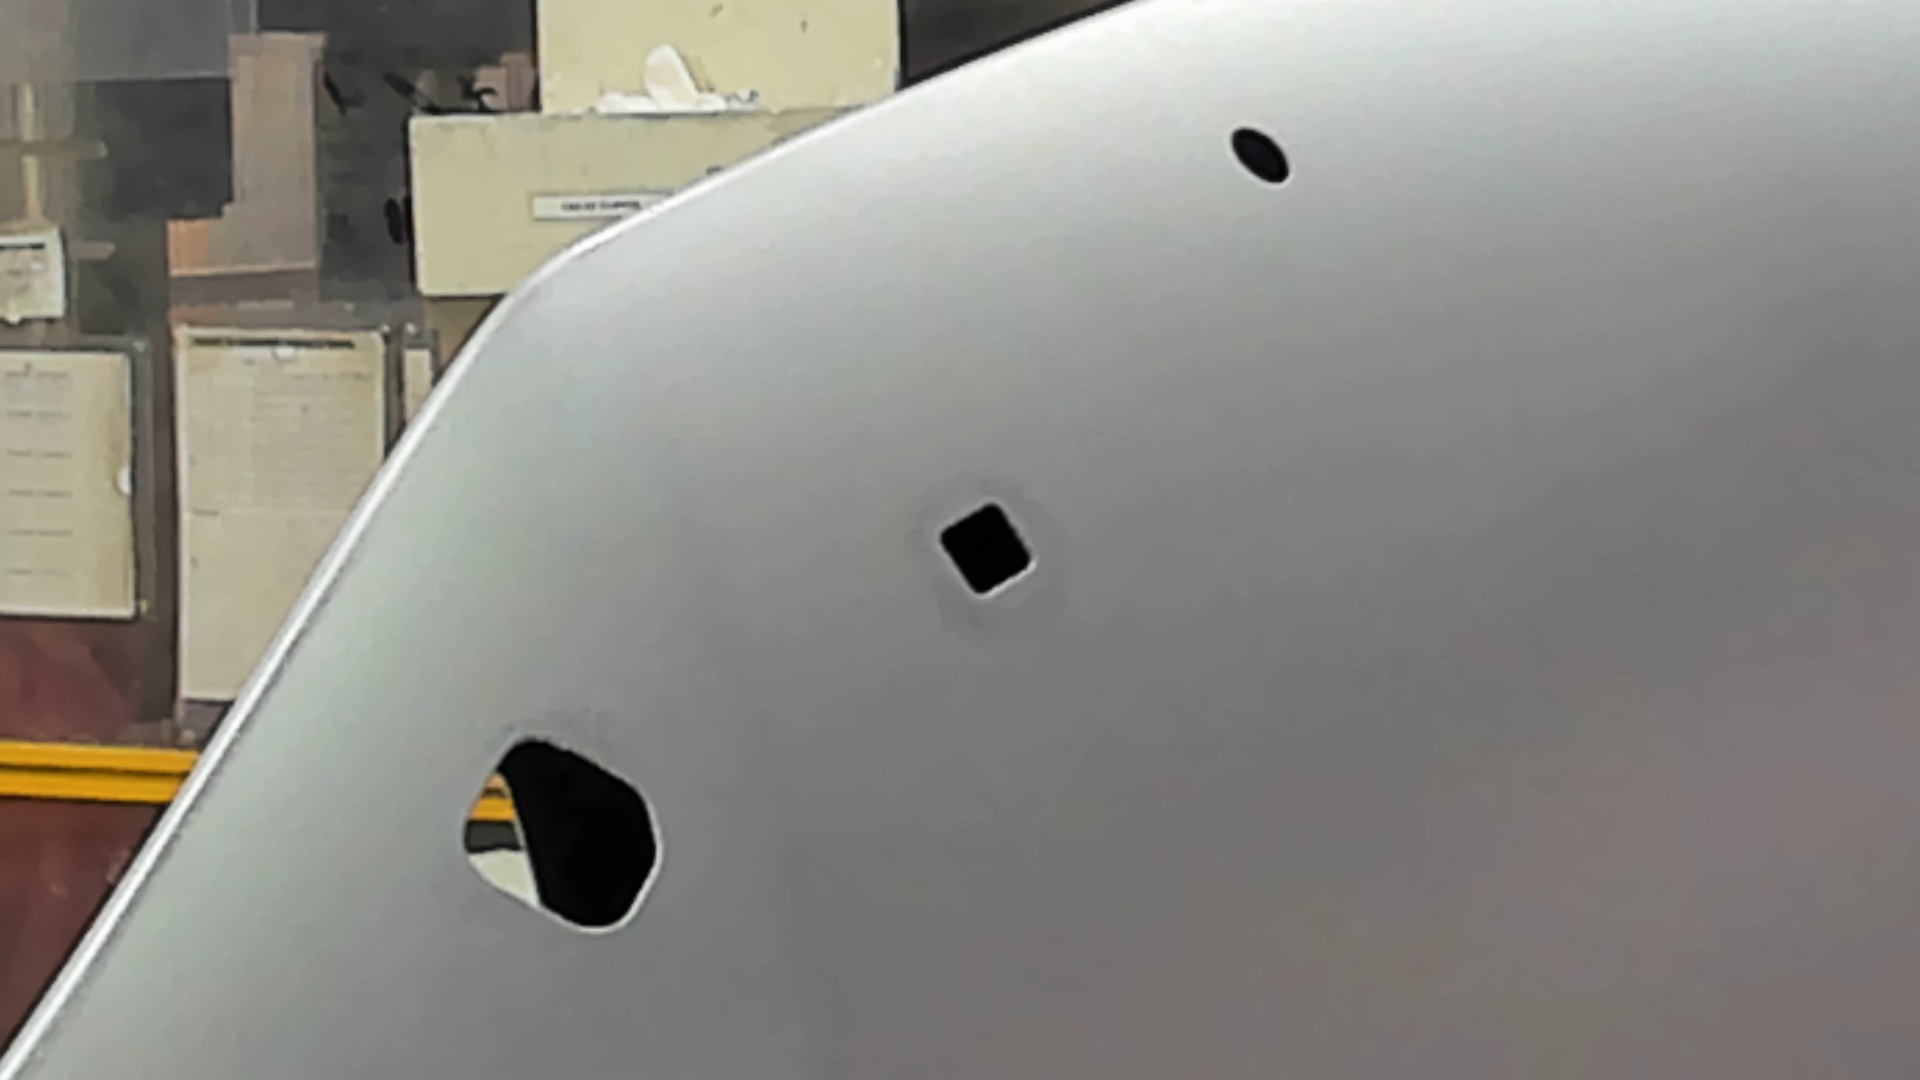chico: (1224, 123, 1294, 187)
grande: (450, 723, 665, 945)
mediano: (928, 495, 1039, 600)
